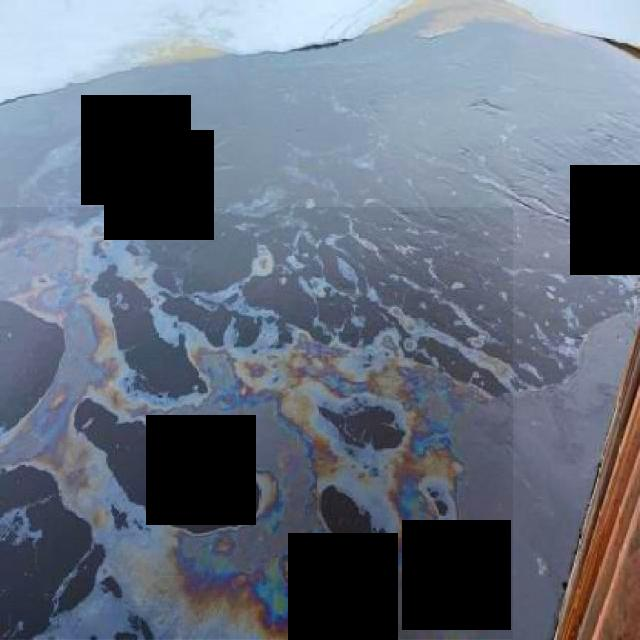oil spill: (0, 208, 513, 639)
